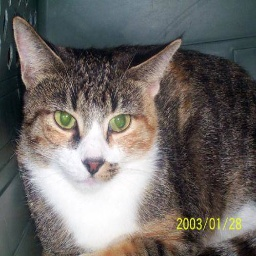cat: (8, 13, 256, 256)
